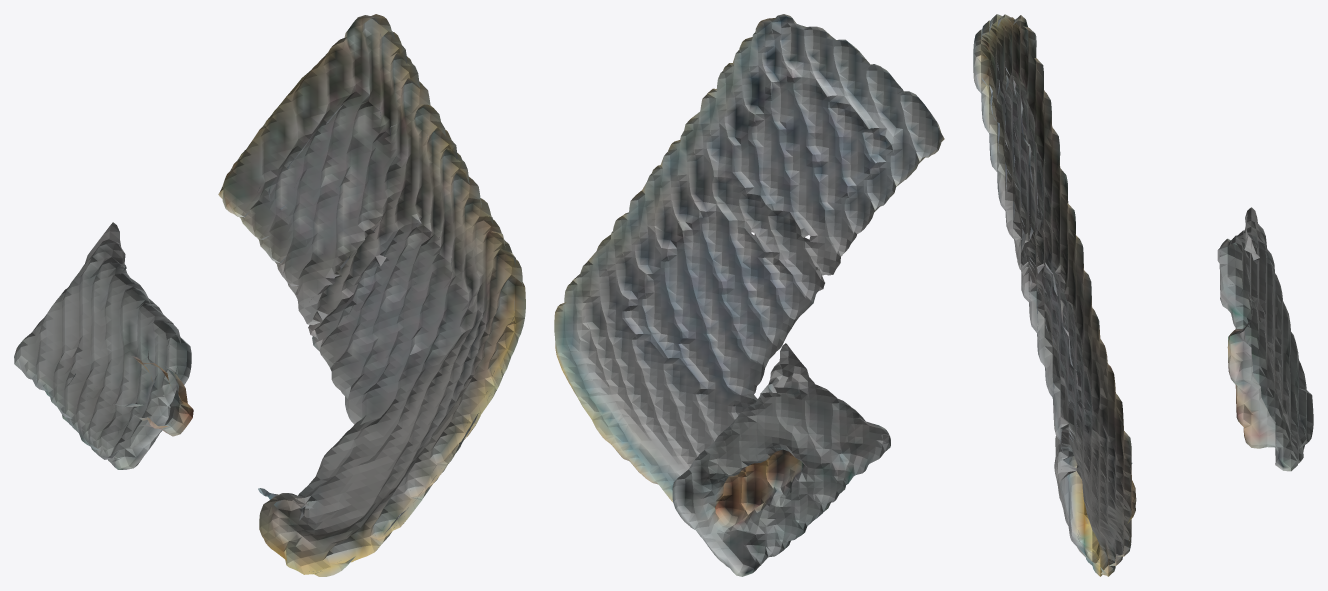
File: haven-triposr.glb
3 renders of one model, left to right at view 1: azimuth 30°, elevation 25°; view 2: azimuth 150°, elevation 25°; view 3: azimuth 270°, elevation 25°, orthographic. The views are drawn at different scales.
Parts seen in each view (by area): view 1: geometry_0; view 2: geometry_0; view 3: geometry_0.
Part boxes in pixels (box(x1,y1,x2,y2)): geometry_0: box(14, 14, 525, 576); geometry_0: box(554, 14, 944, 576); geometry_0: box(973, 14, 1313, 576).
Size of the model in its own units: 0.8348 by 1.03 by 0.5865.
